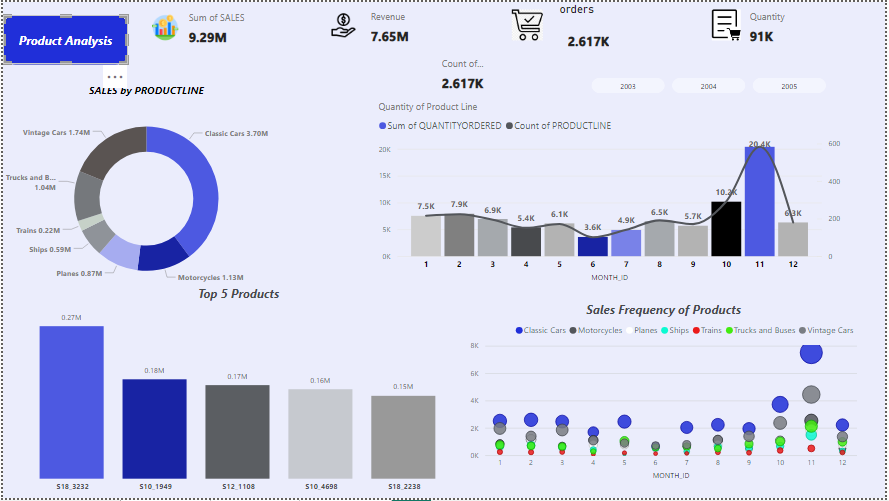

What the dashboard file says about the page in this screenshot:
{"tool":"powerbi","page":{"name":"Products","canvas":[1280,720],"ordinal":1},"visuals":[{"type":"lineClusteredColumnComboChart","title":"Quantity of Product Line","fields":{"Category":["Sales_Analysis_Project1.MONTH_ID"],"Y":["Sum(Sales_Analysis_Project1.QUANTITYORDERED)"],"Y2":["CountNonNull(Sales_Analysis_Project1.PRODUCTLINE)"]},"box":[539.5,141.6,681.1,269],"z":0},{"type":"columnChart","title":"Top 5 Products","fields":{"Category":["Sales_Analysis_Project1.PRODUCTCODE"],"Y":["Sum(Sales_Analysis_Project1.SALES)"]},"box":[0,410.6,683.9,310.1],"z":1000},{"type":"scatterChart","title":"Sales Frequency of Products","fields":{"Y":["Sum(Sales_Analysis_Project1.QUANTITYORDERED)"],"Series":["Sales_Analysis_Project1.PRODUCTLINE"],"Size":["CountNonNull(Sales_Analysis_Project1.PRODUCTLINE)"],"X":["Sales_Analysis_Project1.MONTH_ID"]},"box":[674,433.3,570.6,264.8],"z":2000},{"type":"donutChart","title":"SALES by PRODUCTLINE","fields":{"Series":["Sales_Analysis_Project1.PRODUCTLINE"],"Y":["Sum(Sales_Analysis_Project1.SALES)"]},"box":[0,117.5,416.3,315.8],"z":3000},{"type":"cardVisual","fields":{"Data":["Sum(Sales_Analysis_Project1.SALES)"]},"box":[252,1.4,181.2,103.4],"z":4000},{"type":"cardVisual","fields":{"Data":["Sales_Analysis_Project1.Revenue"]},"box":[516.8,0,179.8,104.8],"z":5000},{"type":"cardVisual","fields":{"Data":["Sum(Sales_Analysis_Project1.QUANTITYORDERED)"]},"box":[1066.2,0,178.4,104.8],"z":6000},{"type":"advancedSlicerVisual","fields":{"Values":["Sales_Analysis_Project1.ORDERDATE.Variation.Date Hierarchy.Year"]},"box":[828.3,104.8,392.2,34],"z":7000},{"type":"shape","box":[0,18.4,181.2,72.2],"z":8000},{"type":"image","box":[181.2,12.7,107.6,48.1],"z":9000},{"type":"image","box":[471.5,7.1,45.3,52.4],"z":10000},{"type":"image","box":[732,5.7,58.1,55.2],"z":11000},{"type":"image","box":[1022.3,5.7,55.2,55.2],"z":12000},{"type":"cardVisual","title":"orders","fields":{"Data":["CountNonNull(Sales_Analysis_Project1.ORDERNUMBER)"]},"box":[802.8,0,182.6,91.3],"z":13000},{"type":"cardVisual","title":"orders","fields":{"Data":["CountNonNull(Sales_Analysis_Project1.ORDERNUMBER)"]},"box":[620.1,68.7,182.6,103.1],"z":14000}]}

Visuals, with their boxes in screenshot pixels (x1, y1, x2, y2), scaled from the page's 1280x720 canvas onto the 889x501 screenshot:
"Quantity of Product Line" lineClusteredColumnComboChart: crop(375, 99, 848, 286)
"Top 5 Products" columnChart: crop(0, 286, 475, 500)
"Sales Frequency of Products" scatterChart: crop(468, 302, 864, 486)
"SALES by PRODUCTLINE" donutChart: crop(0, 82, 289, 302)
cardVisual - Sum(Sales_Analysis_Project1.SALES): crop(175, 1, 301, 73)
cardVisual - Sales_Analysis_Project1.Revenue: crop(359, 0, 484, 73)
cardVisual - Sum(Sales_Analysis_Project1.QUANTITYORDERED): crop(741, 0, 864, 73)
advancedSlicerVisual - Sales_Analysis_Project1.ORDERDATE.Variation.Date Hierarchy.Year: crop(575, 73, 848, 97)
shape: crop(0, 13, 126, 63)
image: crop(126, 9, 201, 42)
image: crop(327, 5, 359, 41)
image: crop(508, 4, 549, 42)
image: crop(710, 4, 748, 42)
"orders" cardVisual: crop(558, 0, 684, 64)
"orders" cardVisual: crop(431, 48, 558, 120)
